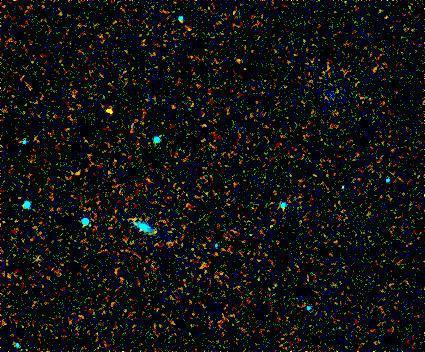star: (93, 95, 123, 125)
